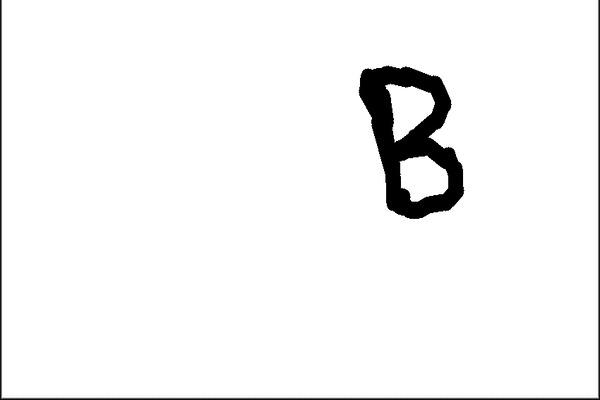B: (353, 56, 473, 226)
